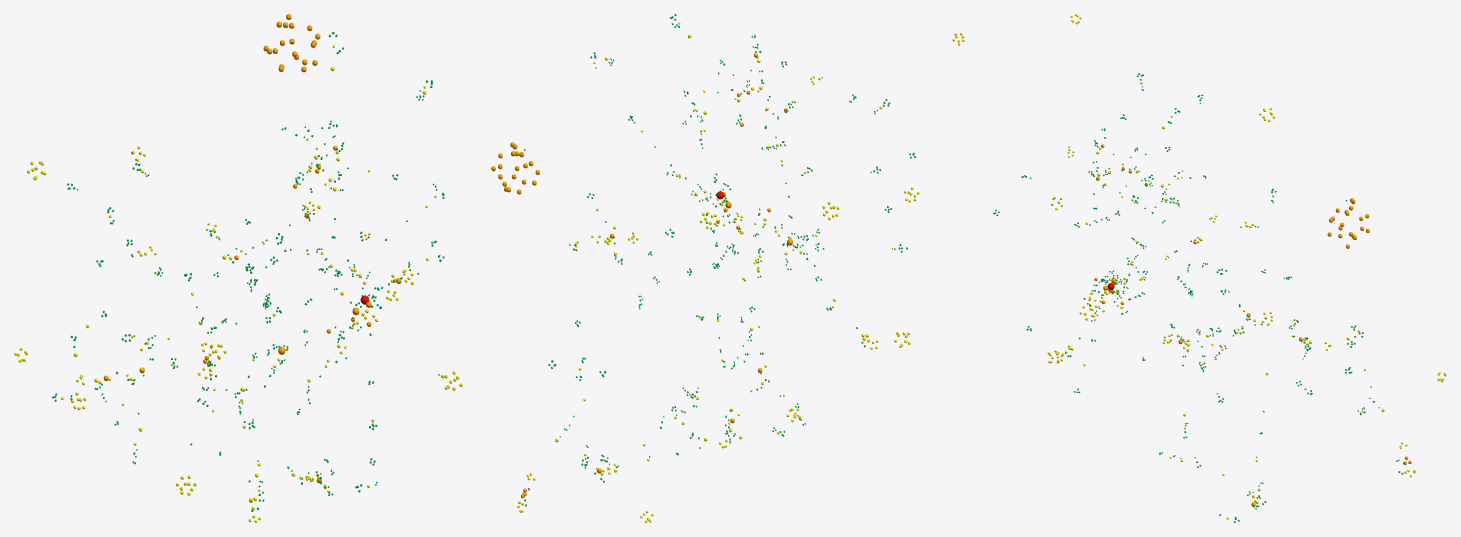
The model's file is nodes.obj.
The picture shows the model from 3 angles, left to right: view 1: azimuth 30°, elevation 25°; view 2: azimuth 150°, elevation 25°; view 3: azimuth 270°, elevation 25°; orthographic projection. The views are drawn at different scales.
Size of the model in its own units: 9077 by 11915 by 12533.
